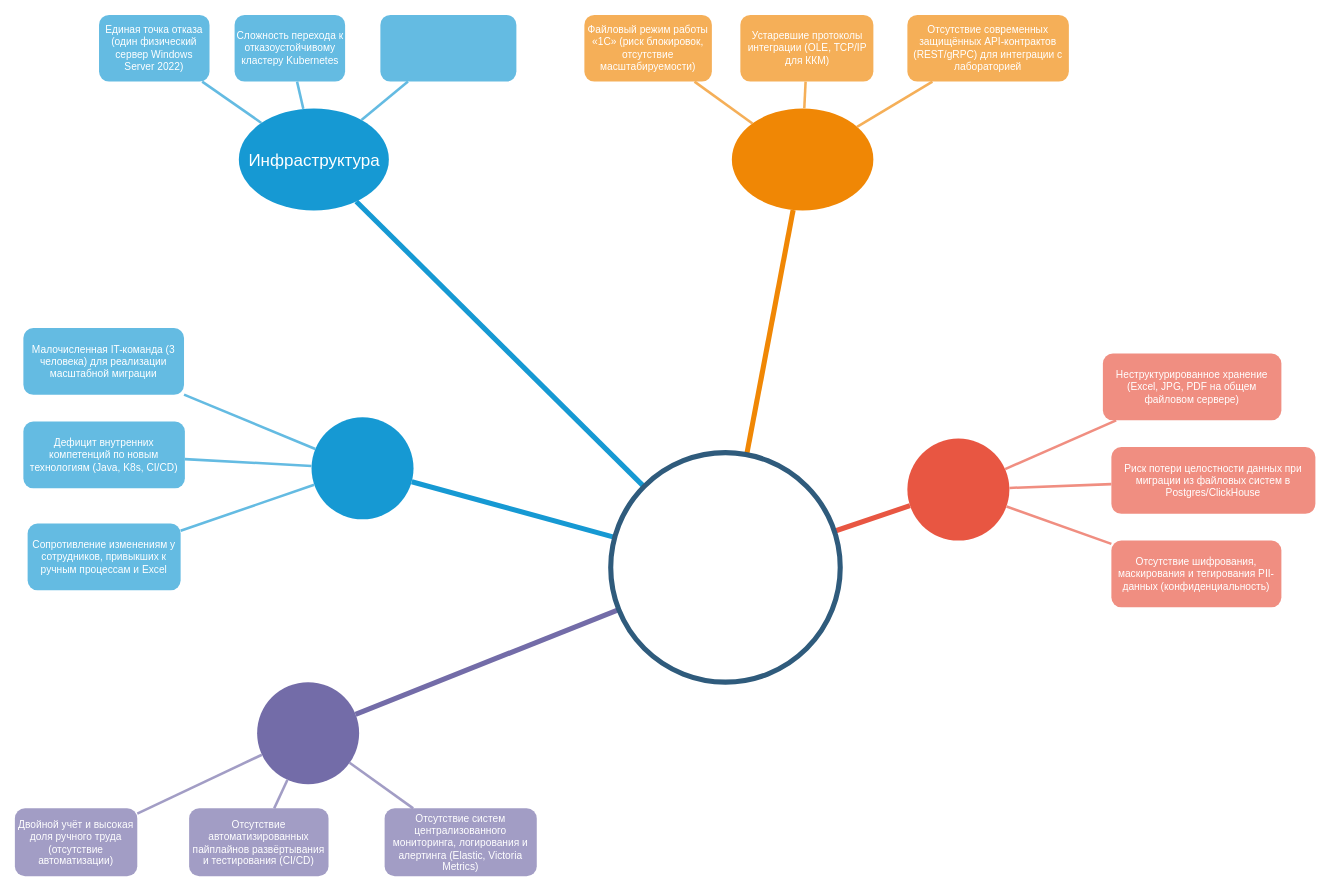
Some shapes in this 1329 by 891 pixel diagram are drawn without their labels. The centre of each missing label's shape, as x and y in pixels:
"Данные" goes at (x=958, y=489).
"Ограничения пропускной способности сети при переносе исторических данных" goes at (x=448, y=47).
"Персонал" goes at (x=362, y=468).
"Программное обеспечение" goes at (x=802, y=159).
"Процессы" goes at (x=308, y=733).
"Узкие места миграции" goes at (x=725, y=567).
